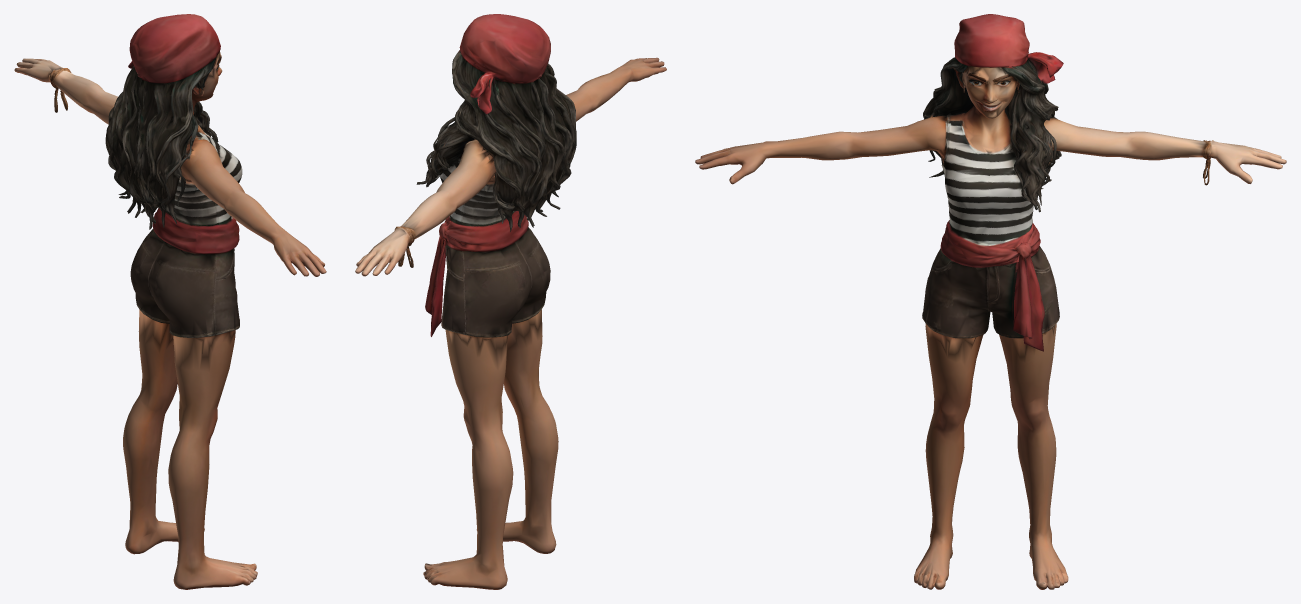
The model's file is the-pirate.glb.
3 views of the same model, side by side, from view 1: azimuth 30°, elevation 25°; view 2: azimuth 150°, elevation 25°; view 3: azimuth 270°, elevation 25° (orthographic).
Parts seen in each view (by area): view 1: the-pirate; view 2: the-pirate; view 3: the-pirate.
Boxes of the visible parts, box(x1,y1,x2,y2) form: the-pirate: box(14, 14, 326, 589); the-pirate: box(355, 14, 666, 589); the-pirate: box(695, 14, 1286, 589).
Size of the model in its own units: 0.2224 by 0.9792 by 0.9567.
Materials: 1 (1 with a texture image).
